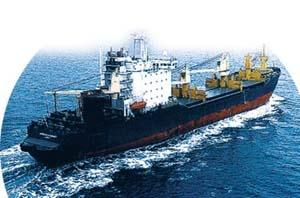Cargoship: (21, 32, 280, 159)
